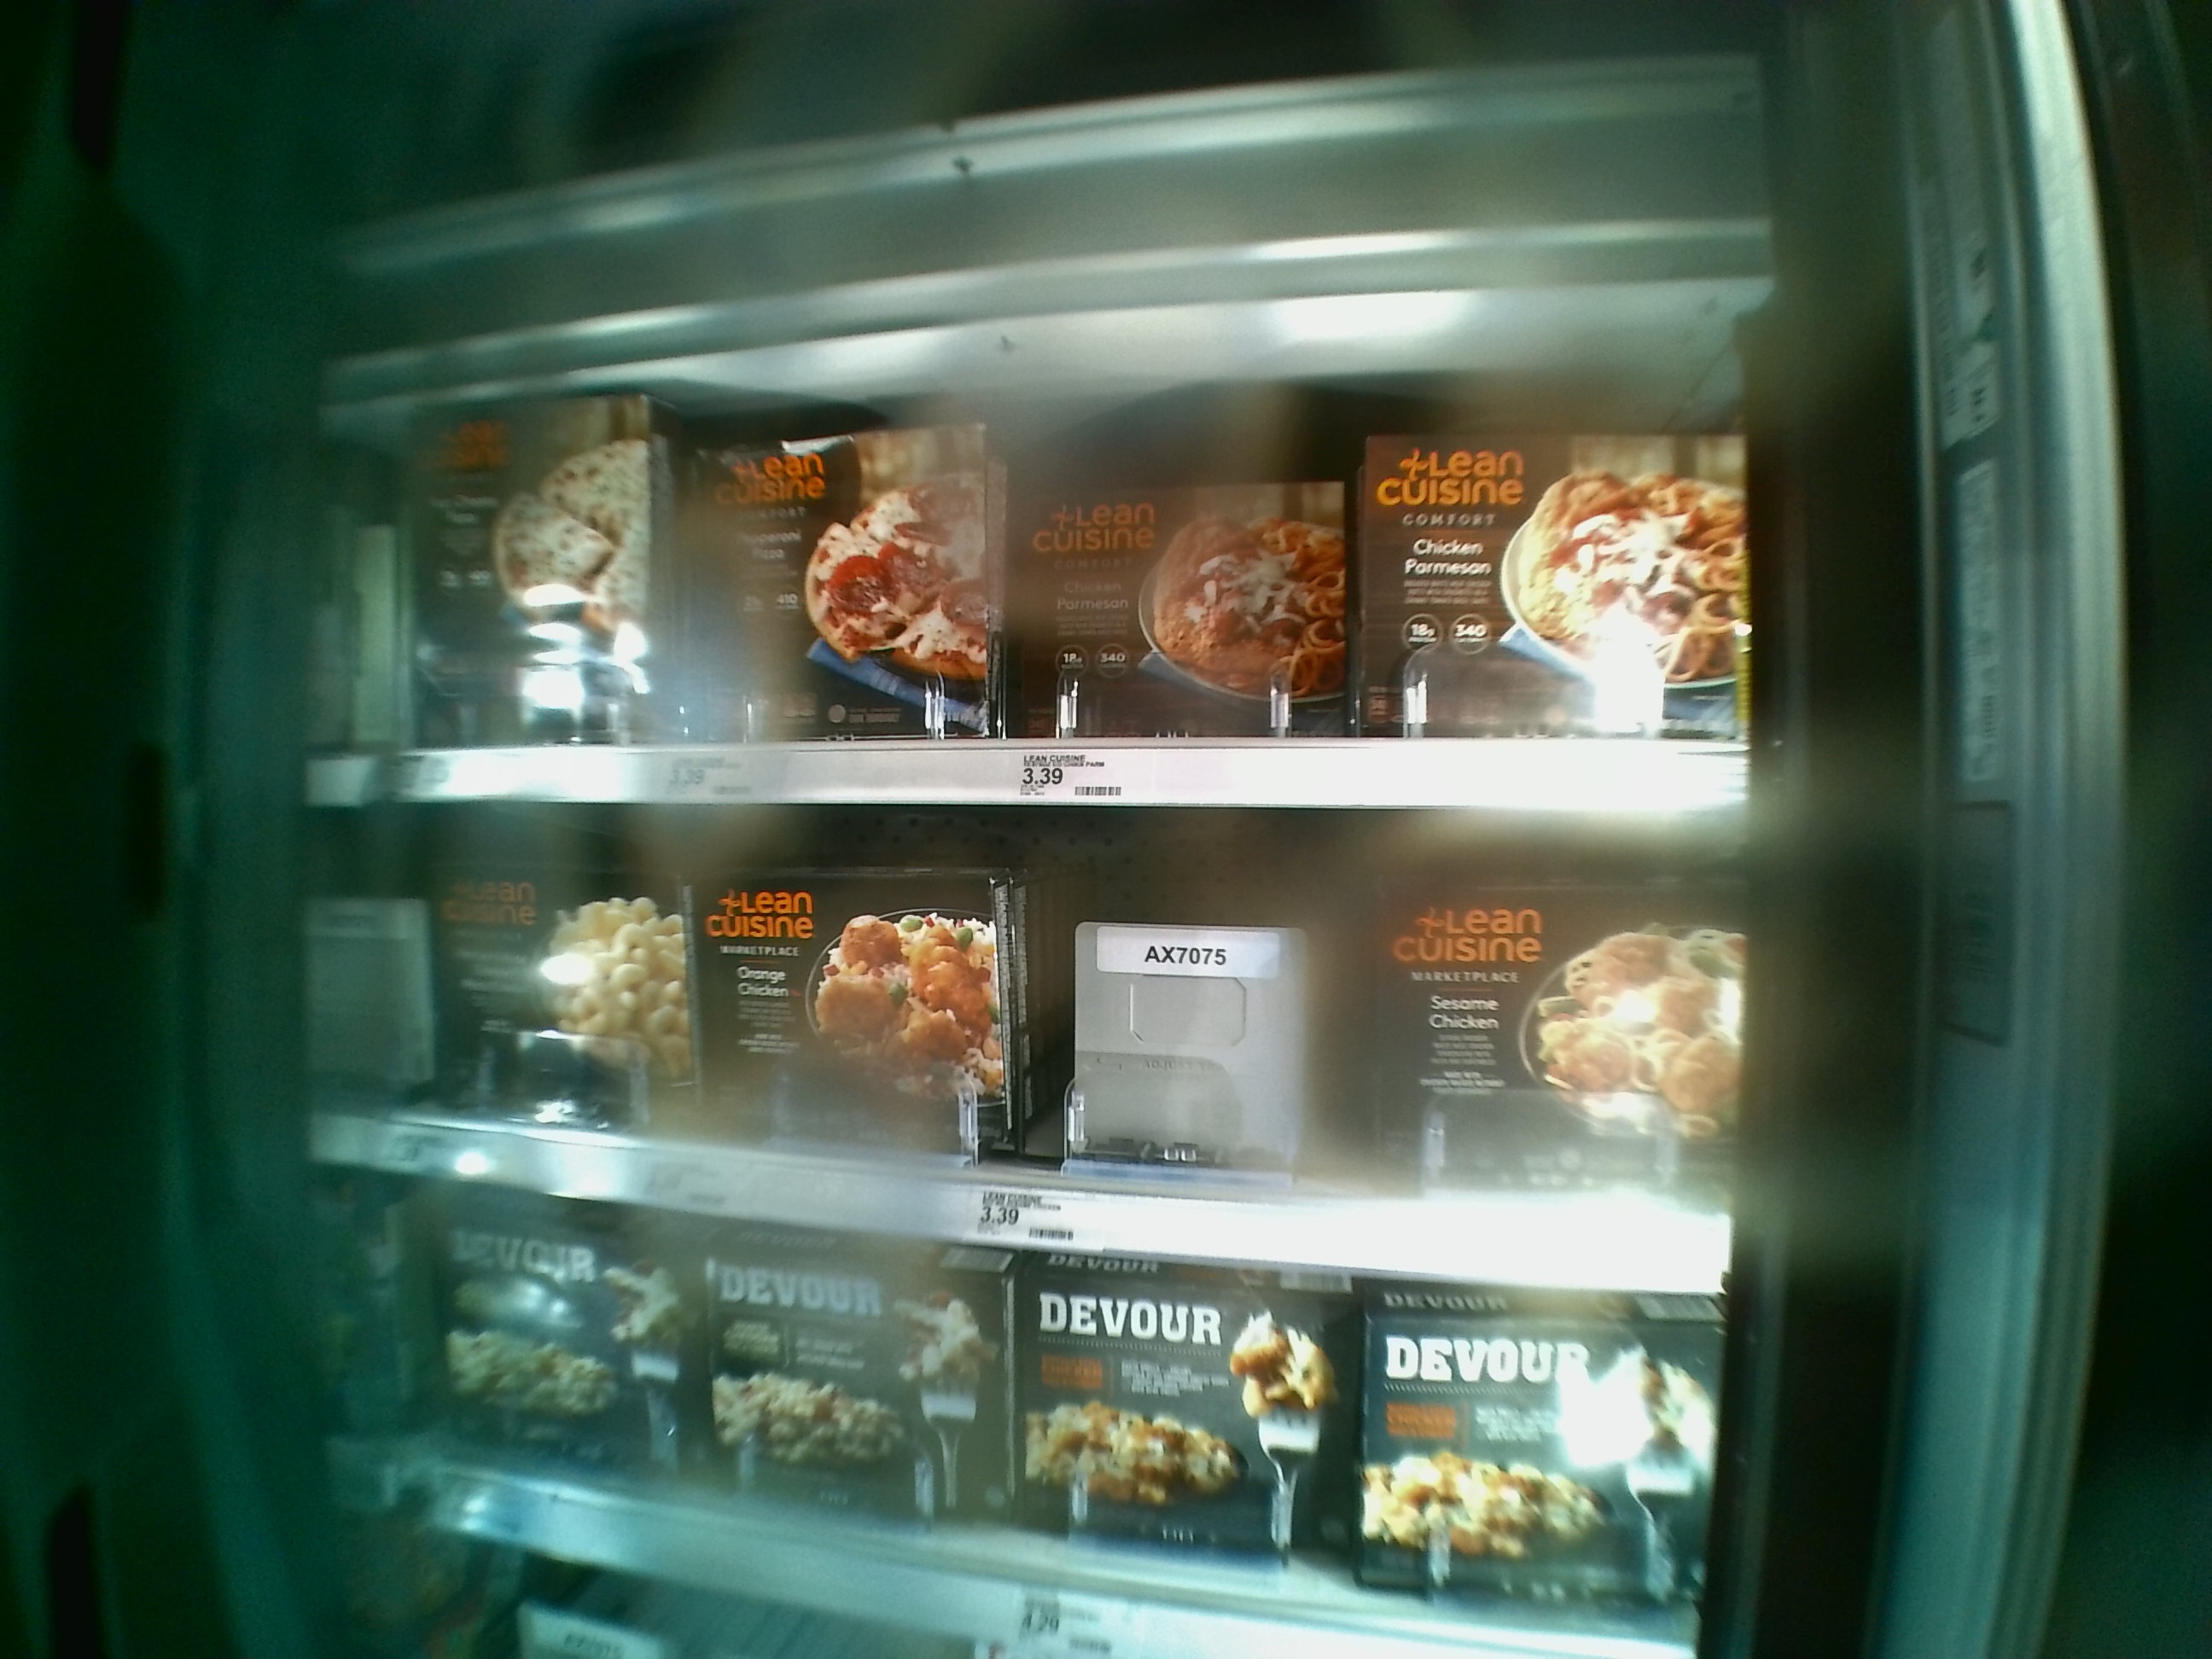Shelf: (307, 237, 1770, 803), (307, 796, 1735, 1310)
